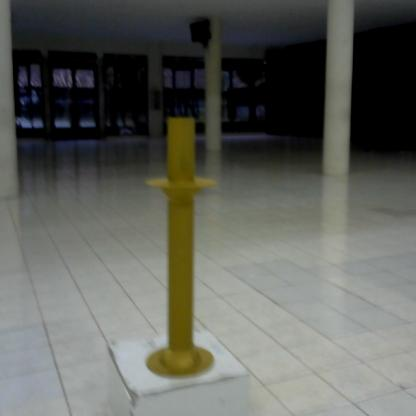pole: (141, 110, 228, 391)
